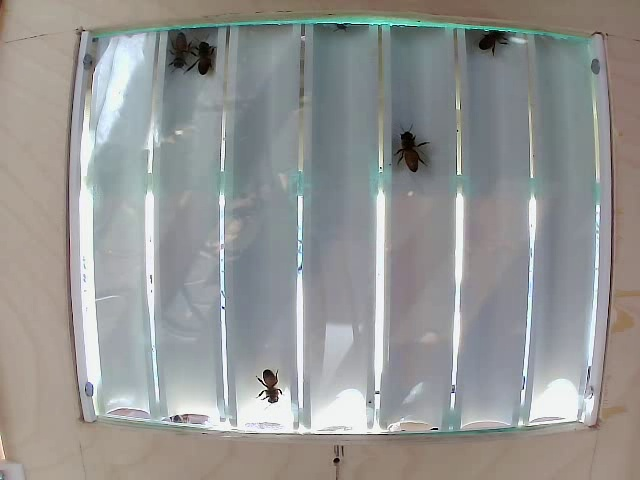bee: (389, 120, 426, 177), (474, 21, 508, 64), (170, 29, 198, 67), (196, 53, 216, 84)
